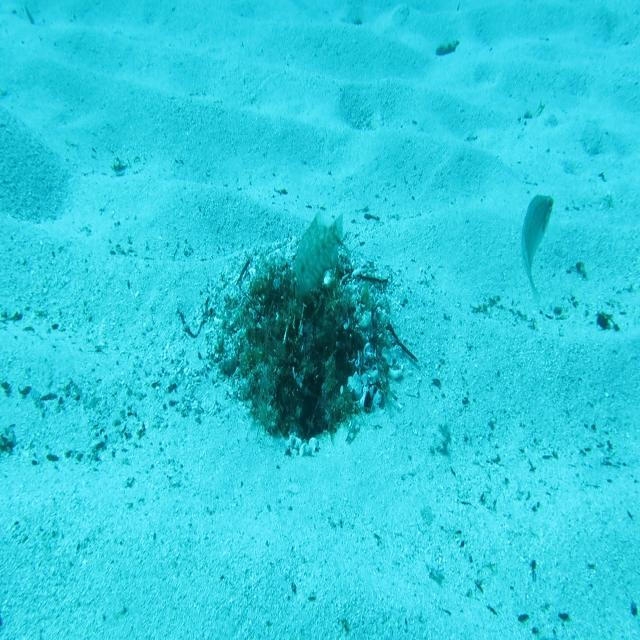NIP_CORE: (292, 207, 346, 303)
core_nest: (276, 284, 329, 315)
female: (520, 192, 555, 306)
nest: (199, 227, 408, 466)
vegetation: (433, 37, 462, 62)
